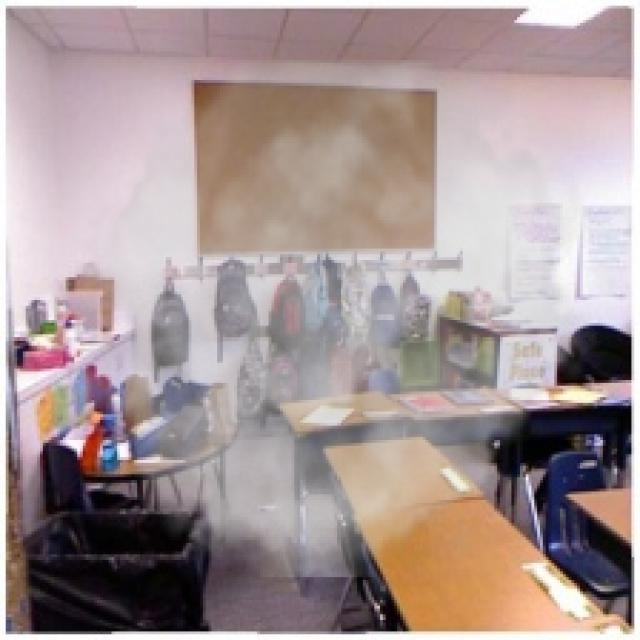smoke: (68, 60, 603, 577)
